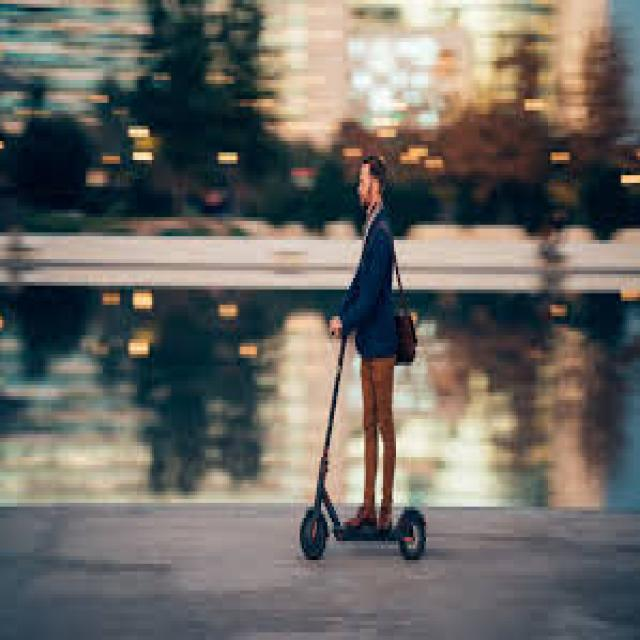non-helmet: (288, 144, 433, 568)
